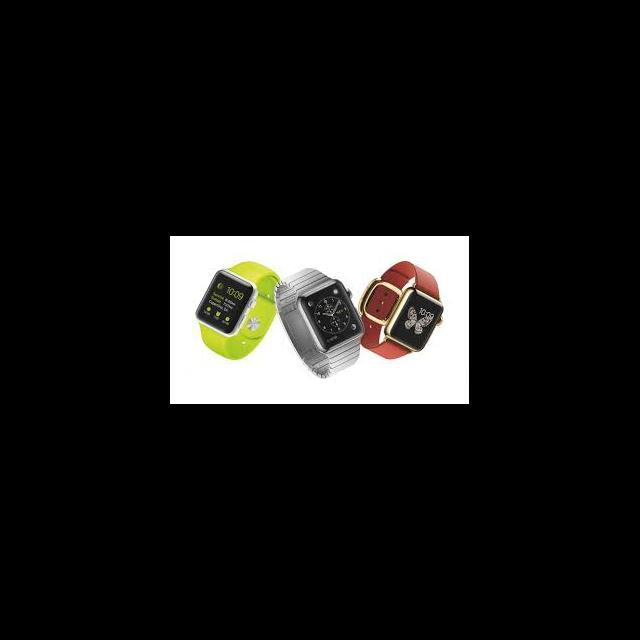watch: (375, 247, 447, 388), (275, 262, 358, 380), (198, 250, 264, 358)
